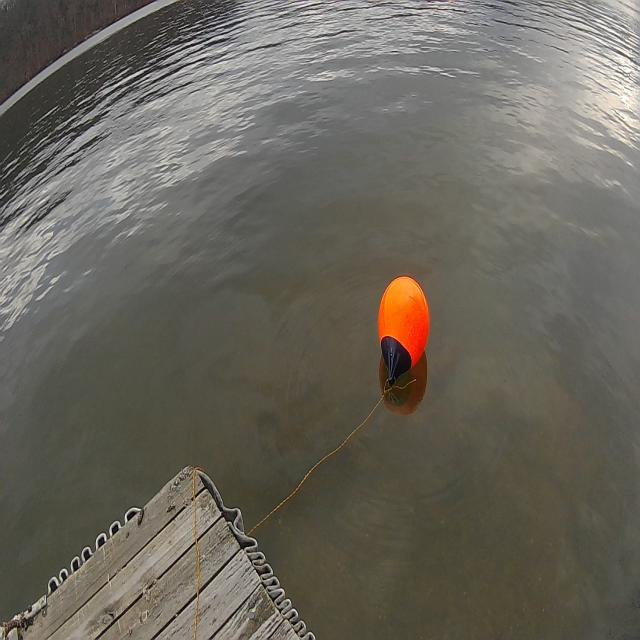Buoy: (374, 269, 432, 397)
